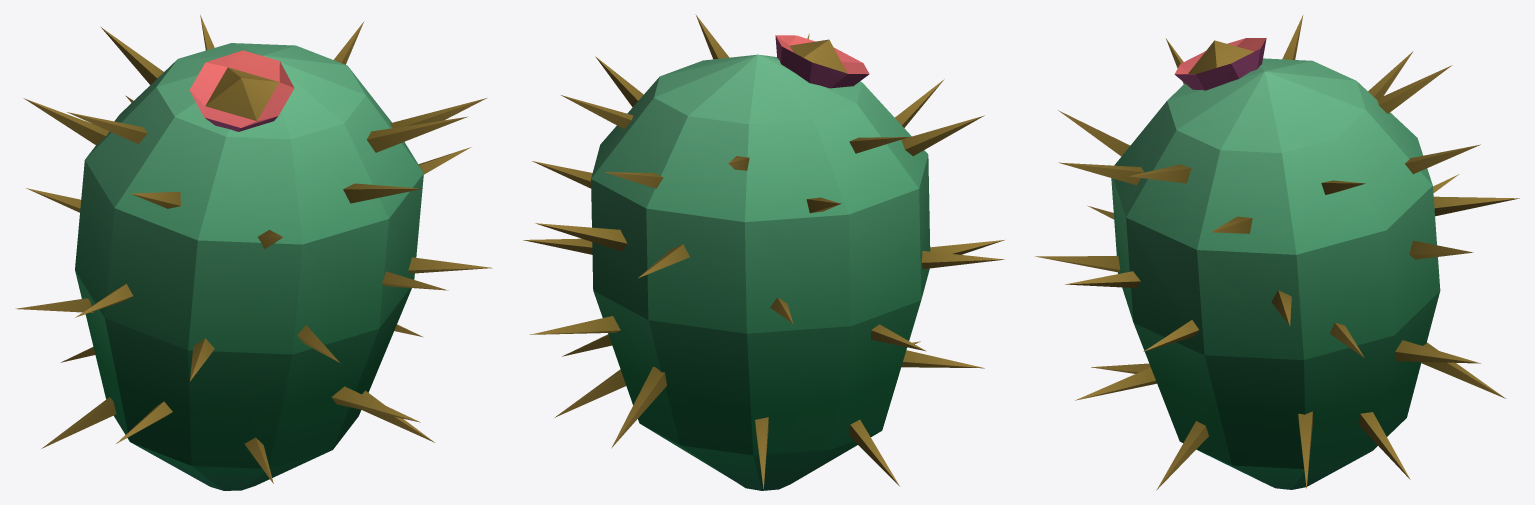
Rendered from Desert_Plant_12_Small_0_1.fbx.
3 views of the same model, side by side, from view 1: azimuth 30°, elevation 25°; view 2: azimuth 150°, elevation 25°; view 3: azimuth 270°, elevation 25° (orthographic). The views are drawn at different scales.
Parts seen in each view (by area): view 1: Desert_plant_012.001; view 2: Desert_plant_012.001; view 3: Desert_plant_012.001.
Boxes of the visible parts, x1,y1,x2,y2 form: Desert_plant_012.001: (15,15,491,490); Desert_plant_012.001: (523,14,1004,490); Desert_plant_012.001: (1035,15,1519,490).
Size of the model in its own units: 223 by 210 by 217.
